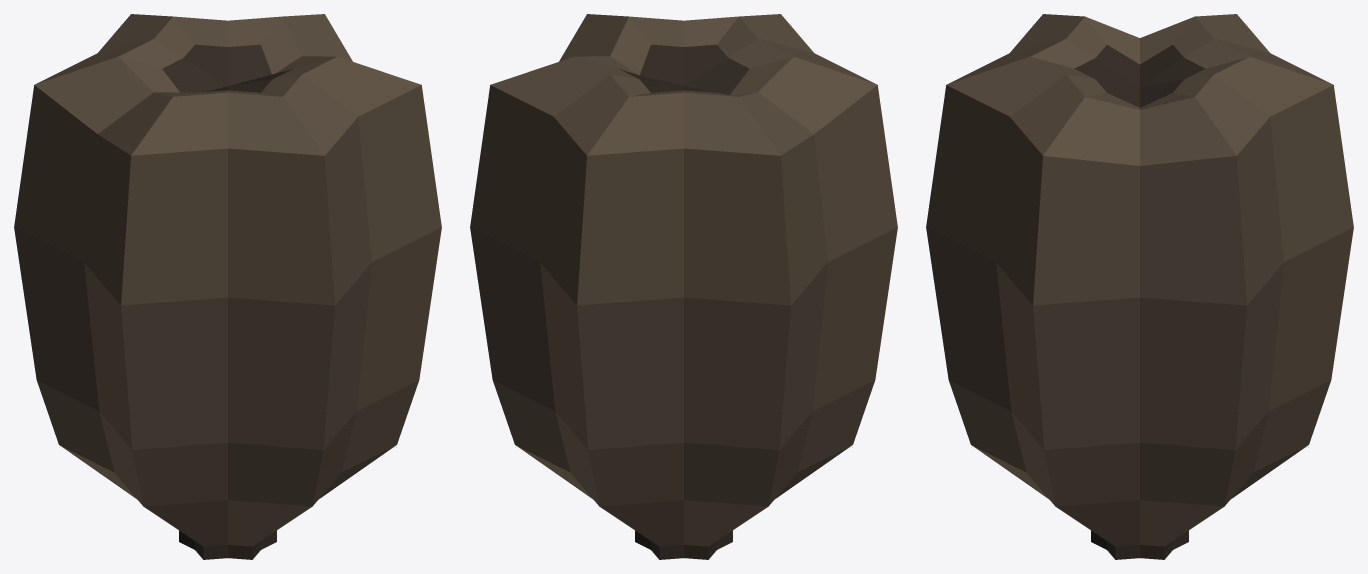
The model's file is seed.glb.
3 views of the same model, side by side, from view 1: azimuth 30°, elevation 25°; view 2: azimuth 150°, elevation 25°; view 3: azimuth 270°, elevation 25° (orthographic).
Visible parts, largest first — view 1: Конус; view 2: Конус; view 3: Конус.
Part boxes in pixels (left/top/right/bottom): Конус: left=14, top=14, right=441, bottom=559; Конус: left=470, top=14, right=897, bottom=559; Конус: left=926, top=14, right=1353, bottom=559.
Bounding box in the file's own units: 0.0744 × 0.1075 × 0.0859.
